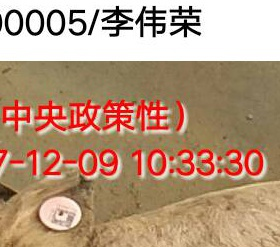text: (30, 186, 91, 240)
